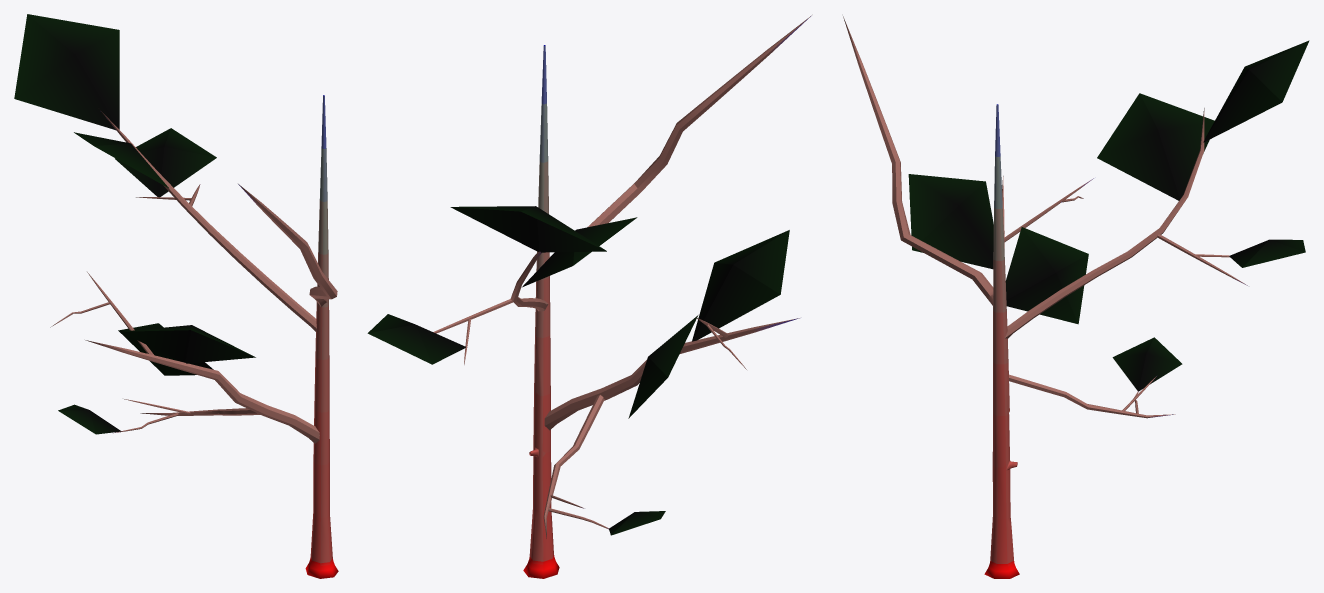
File: CustomTree_afsTREE.fbx
The picture shows the model from 3 angles, left to right: view 1: azimuth 30°, elevation 25°; view 2: azimuth 150°, elevation 25°; view 3: azimuth 270°, elevation 25°; orthographic projection. The views are drawn at different scales.
Visible parts, largest first — view 1: LeafPlane2, LeafPlane (×3), Trunk_xw07, Branch_xp01_xw04, Branch01_01_xp10_xw08, Branch_xp02_xw09, LeafPlane1_xt15_xw14, LeafPlane1, Branch_xt10; view 2: LeafPlane (×3), Trunk_xw07, LeafPlane2, Branch_xp02_xw09, Branch_xp01_xw04, LeafPlane1, Branch_xt10, LeafPlane1_xt15_xw14, Branch01_01_xp10_xw08; view 3: LeafPlane (×3), Trunk_xw07, LeafPlane1, LeafPlane2, Branch_xp02_xw09, Branch01_01_xp10_xw08, LeafPlane1_xt15_xw14, Branch_xt10.
Part boxes in pixels (box(x1,y1,x2,y2)): LeafPlane2: box(14, 14, 119, 130); LeafPlane (×3): box(74, 128, 255, 363); Trunk_xw07: box(305, 95, 338, 578); Branch_xp01_xw04: box(85, 340, 319, 443); Branch01_01_xp10_xw08: box(98, 108, 316, 331); Branch_xp02_xw09: box(238, 184, 337, 306); LeafPlane1_xt15_xw14: box(58, 404, 121, 434); LeafPlane1: box(118, 323, 213, 375); Branch_xt10: box(140, 408, 260, 415); LeafPlane (×3): box(367, 217, 789, 364); Trunk_xw07: box(523, 45, 559, 578); LeafPlane2: box(450, 206, 606, 252); Branch_xp02_xw09: box(549, 15, 811, 257); Branch_xp01_xw04: box(544, 318, 799, 430); LeafPlane1: box(628, 315, 698, 418); Branch_xt10: box(543, 395, 604, 538); LeafPlane1_xt15_xw14: box(609, 511, 665, 535); Branch01_01_xp10_xw08: box(510, 251, 548, 311); LeafPlane (×3): box(908, 93, 1305, 269); Trunk_xw07: box(984, 104, 1019, 578); LeafPlane1: box(1005, 227, 1088, 324); LeafPlane2: box(1203, 40, 1309, 142); Branch_xp02_xw09: box(843, 16, 993, 305); Branch01_01_xp10_xw08: box(1005, 108, 1204, 338); LeafPlane1_xt15_xw14: box(1112, 337, 1182, 391); Branch_xt10: box(1009, 374, 1175, 418).
Bounding box in the file's own units: 468 × 855 × 755.
